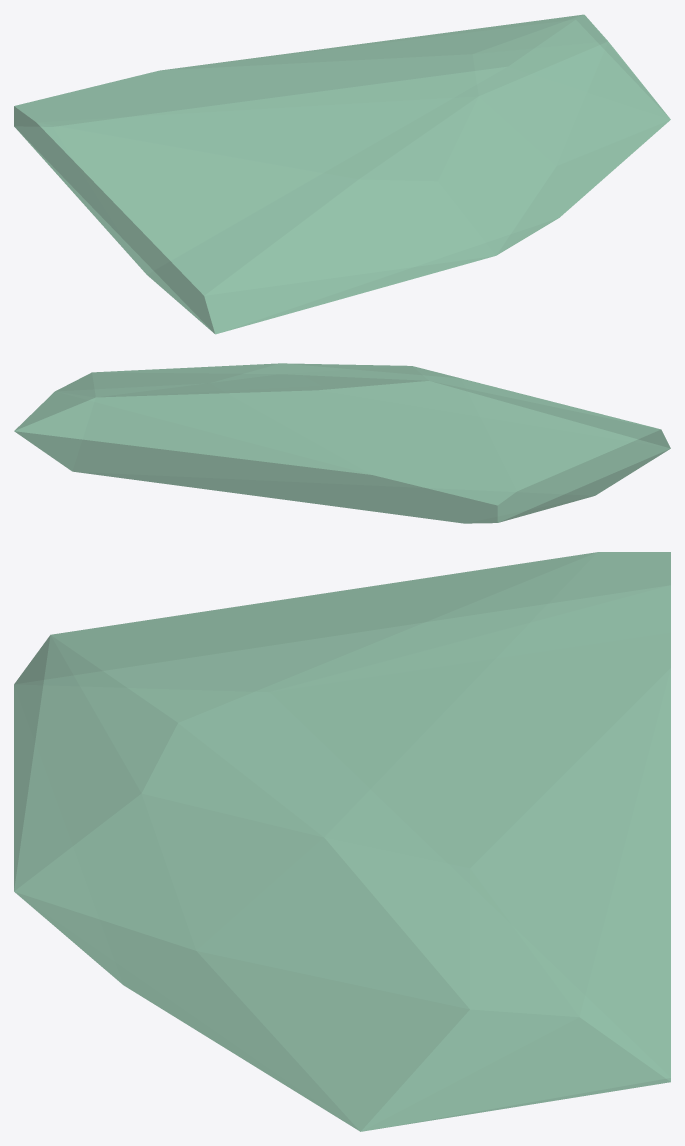
The picture shows the model from 3 angles, top to bottom: view 1: azimuth 30°, elevation 25°; view 2: azimuth 150°, elevation 25°; view 3: azimuth 270°, elevation 25°; orthographic projection. The views are drawn at different scales.
Visible parts, largest first — view 1: Shape_IndexedFaceSet.074_Shape_IndexedFaceSet.16476; view 2: Shape_IndexedFaceSet.074_Shape_IndexedFaceSet.16476; view 3: Shape_IndexedFaceSet.074_Shape_IndexedFaceSet.16476.
Boxes of the visible parts, box(x1,y1,x2,y2) form: Shape_IndexedFaceSet.074_Shape_IndexedFaceSet.16476: box(14, 14, 670, 334); Shape_IndexedFaceSet.074_Shape_IndexedFaceSet.16476: box(14, 363, 670, 523); Shape_IndexedFaceSet.074_Shape_IndexedFaceSet.16476: box(14, 552, 670, 1131).
Size of the model in its own units: 0.0133 by 0.00184 by 0.00827.
